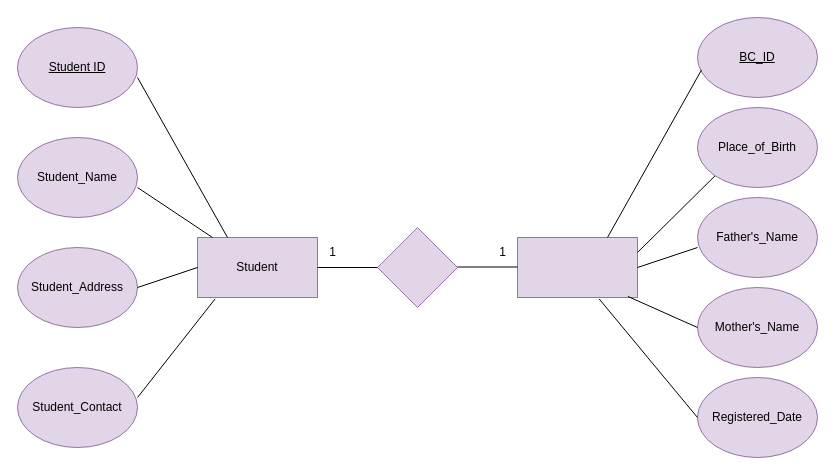
Some shapes in this 835 by 475 pixel diagram are drawn without their labels. Each missing label, with the box of its shape:
Birth_Certificate: (516, 236, 638, 298)
Has: (376, 226, 458, 308)
